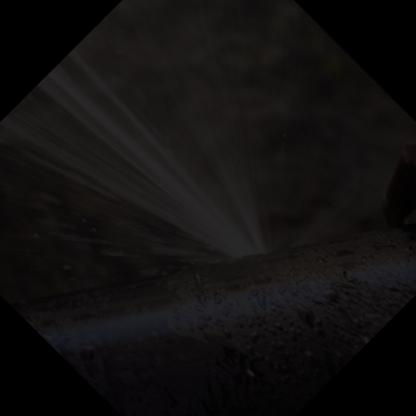burst: (195, 217, 287, 280)
